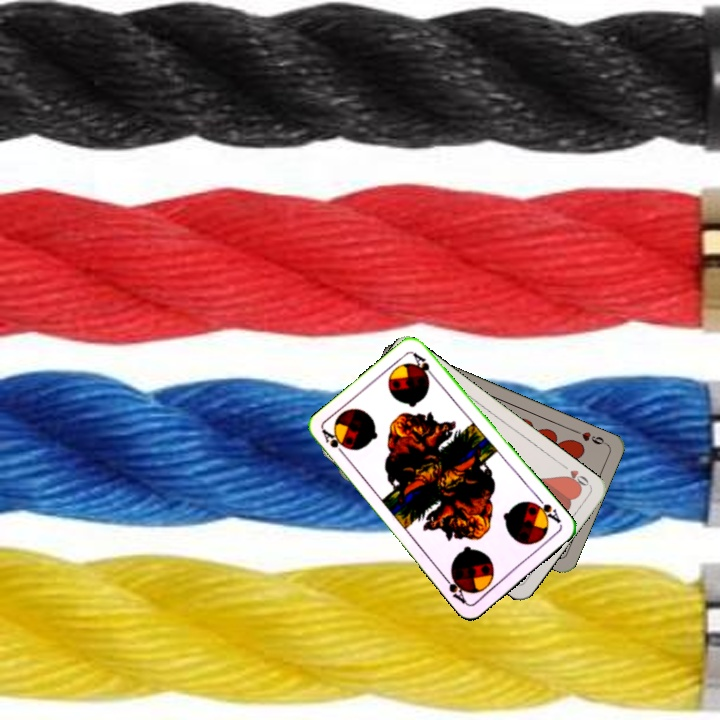H9: (571, 426, 609, 448)
HO: (557, 460, 593, 492)
SA: (528, 492, 564, 526), (318, 426, 350, 460)
